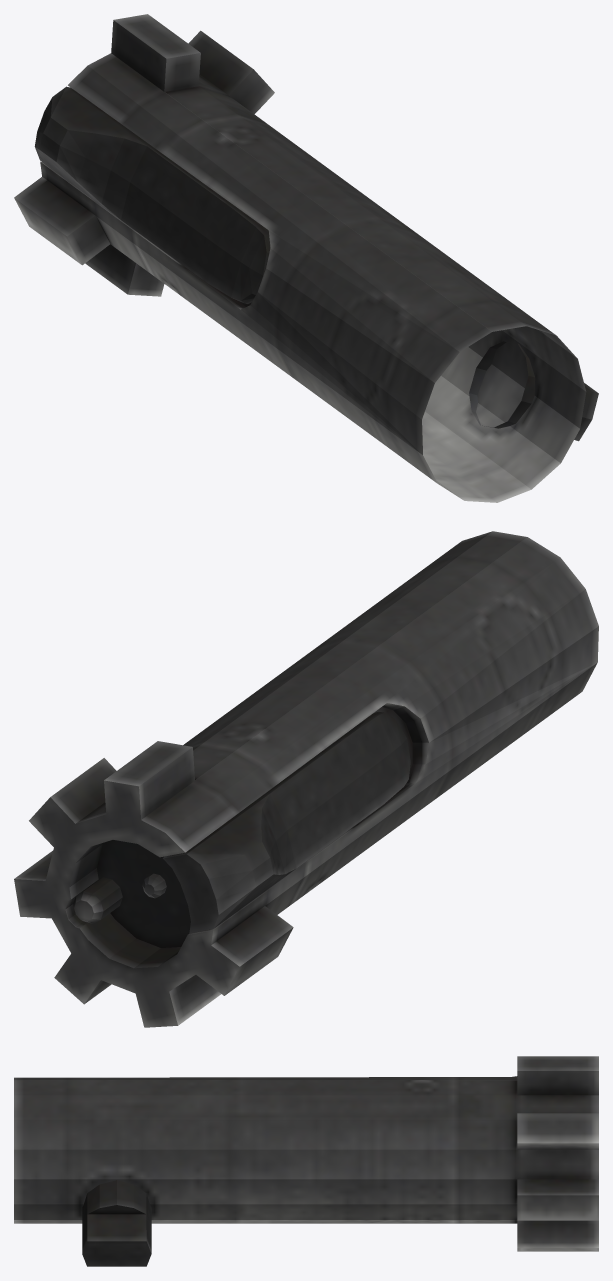
The picture shows the model from 3 angles, top to bottom: view 1: azimuth 30°, elevation 25°; view 2: azimuth 150°, elevation 25°; view 3: azimuth 270°, elevation 25°; orthographic projection. The views are drawn at different scales.
Parts seen in each view (by area): view 1: TW_623063e994fc3f7b302a9696_PZ_Import; view 2: TW_623063e994fc3f7b302a9696_PZ_Import; view 3: TW_623063e994fc3f7b302a9696_PZ_Import.
Part boxes in pixels (box(x1,y1,x2,y2)): TW_623063e994fc3f7b302a9696_PZ_Import: box(14, 14, 598, 502); TW_623063e994fc3f7b302a9696_PZ_Import: box(14, 531, 598, 1027); TW_623063e994fc3f7b302a9696_PZ_Import: box(14, 1056, 598, 1266).
Size of the model in its own units: 0.0117 by 0.0306 by 0.0105.
Materials: 1 (1 with a texture image).
